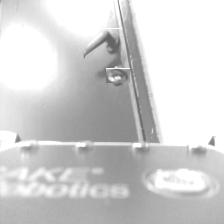Door Handle: (82, 28, 122, 59)
Lock: (109, 66, 128, 86)
